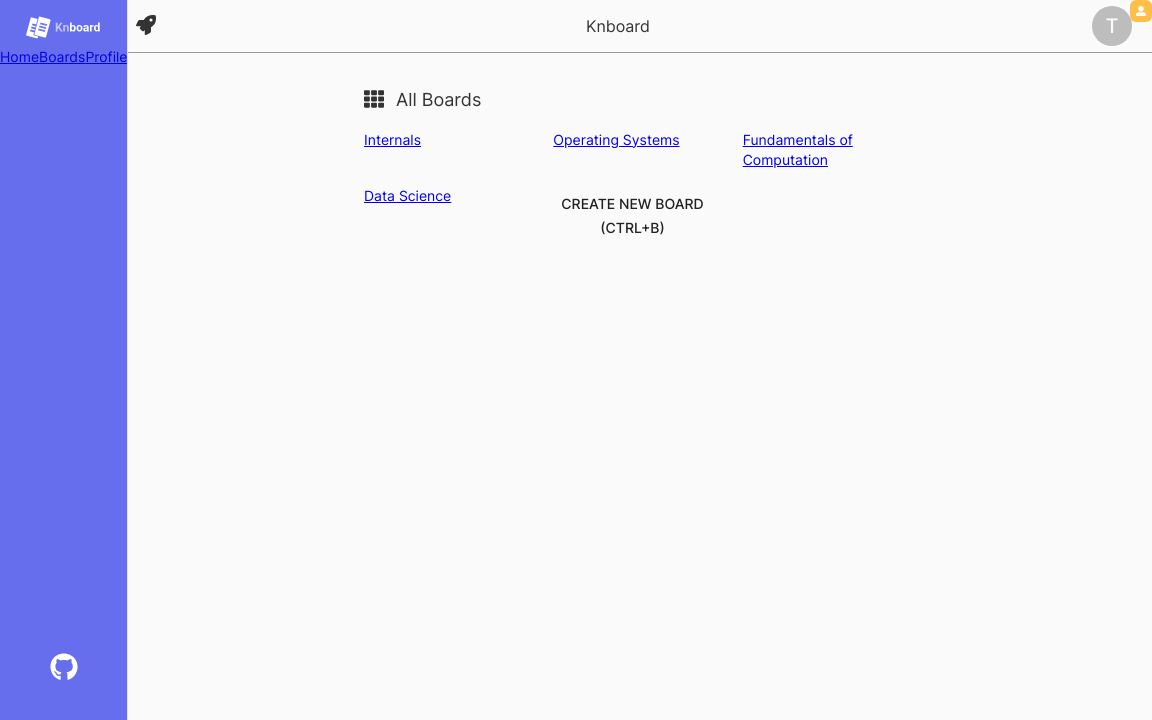
Test: Board List › should have list of boards and create new board
Expected: the text "All Boards" is shown, [396, 89, 481, 110]
Expected: the link "Internals" is shown, [364, 131, 421, 148]
Click the text "Create new board(ctrl+B)": [632, 217] box [561, 192, 703, 241]
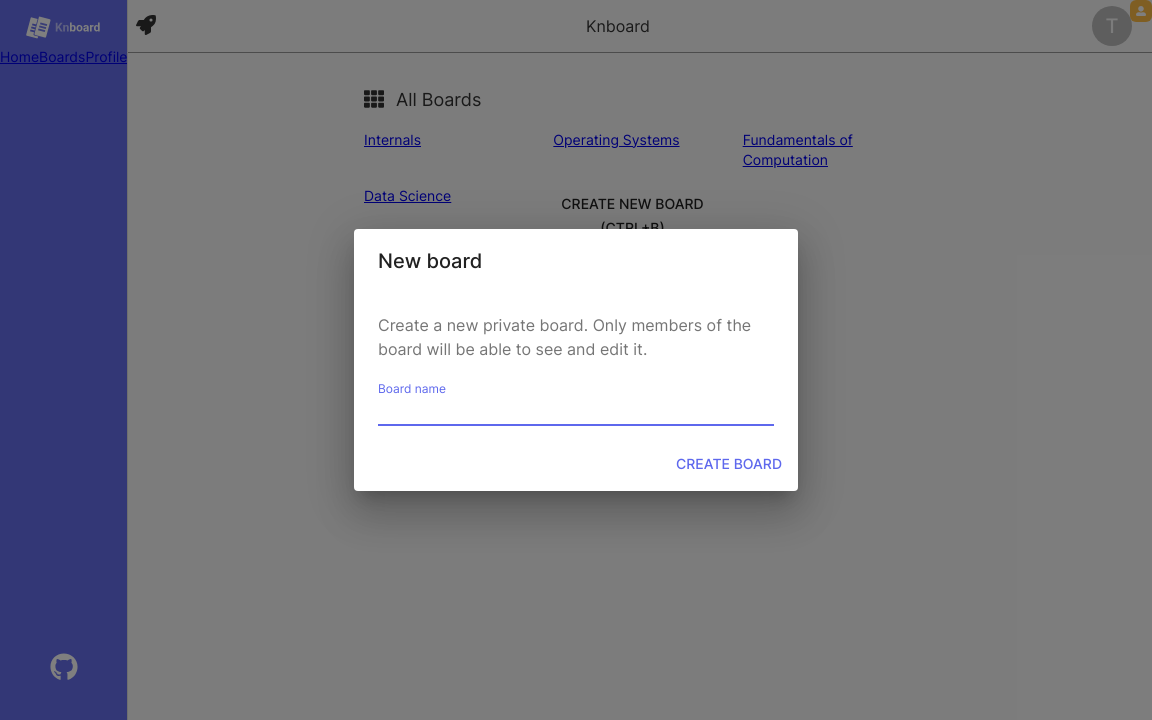
Click the text "Create Board": [729, 465] box [676, 452, 782, 477]
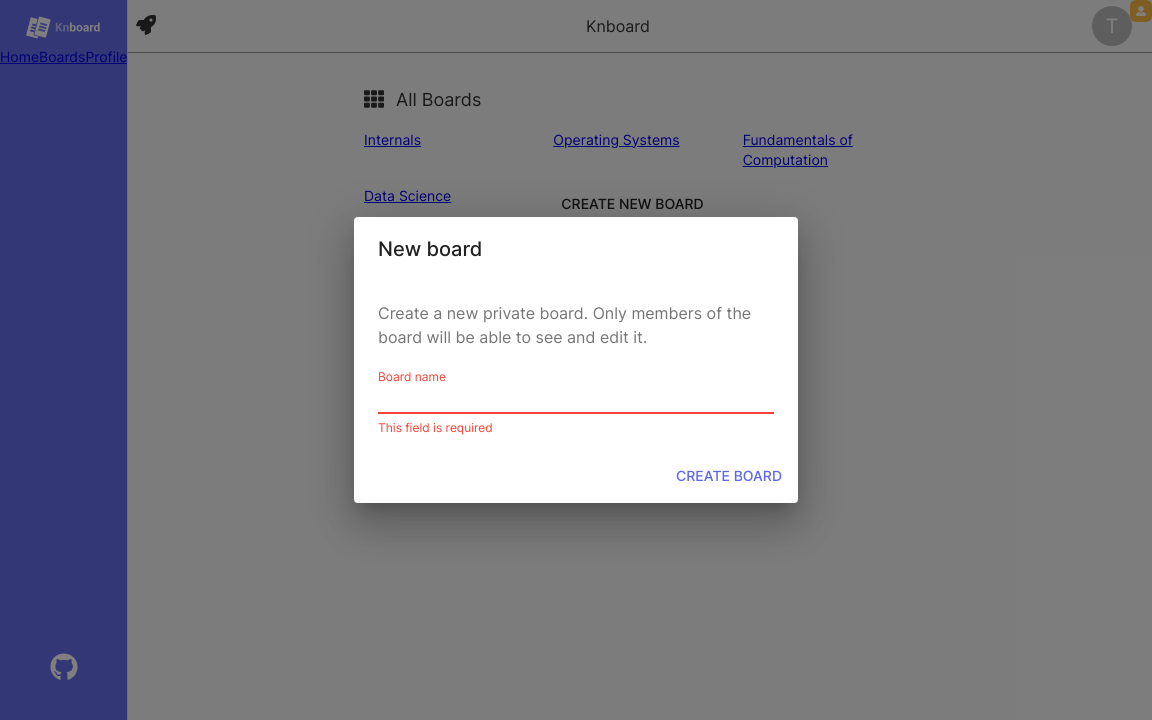
Expected: the text "This field is required" is shown, [378, 420, 493, 435]
In the field labelled "Board name": [576, 400] box [378, 385, 774, 414], type "Physics"
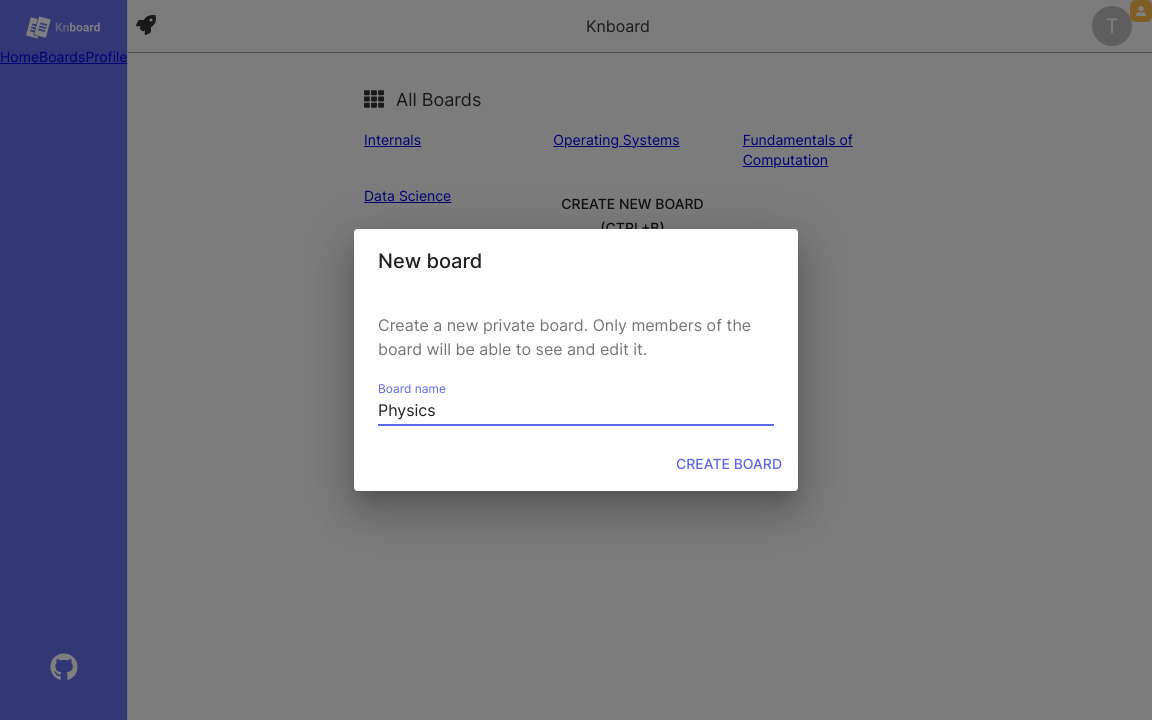
Click the button with test id "create-board-btn": [729, 465] box [668, 446, 790, 483]
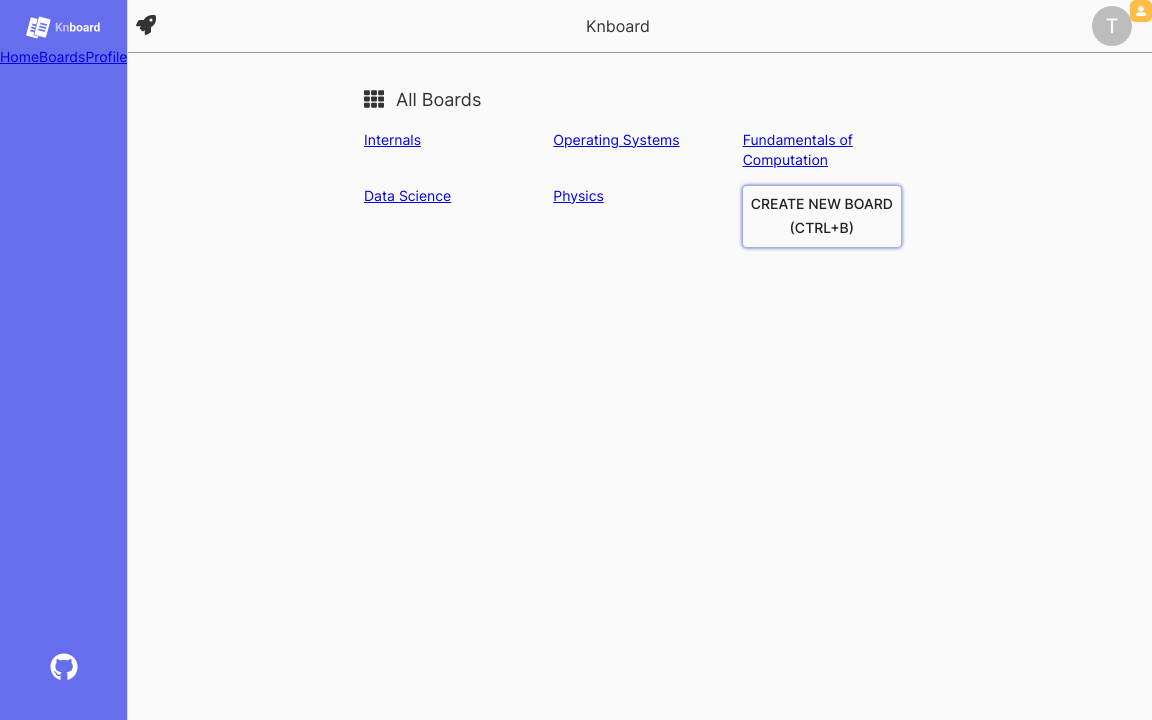
Expected: the link "Physics" is shown, [553, 187, 604, 204]
